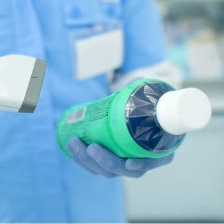bottle: (49, 73, 219, 174)
